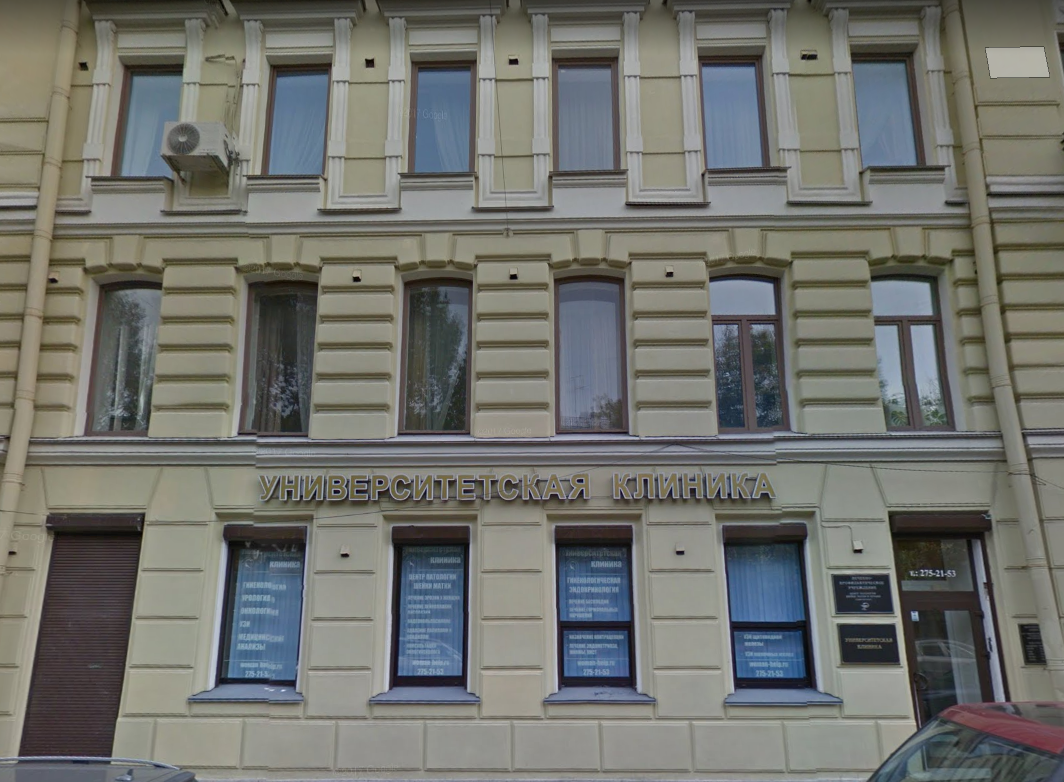door: (17, 517, 145, 761)
signboard: (255, 466, 782, 504)
window: (869, 264, 961, 434), (212, 525, 305, 686), (551, 269, 635, 437), (708, 267, 793, 429), (557, 525, 636, 695), (392, 523, 471, 688), (86, 275, 164, 437), (731, 531, 807, 695), (400, 271, 473, 438), (243, 275, 318, 435), (259, 51, 333, 177), (851, 50, 922, 178), (694, 50, 767, 171), (404, 55, 478, 173), (113, 58, 183, 181), (551, 54, 620, 177)
